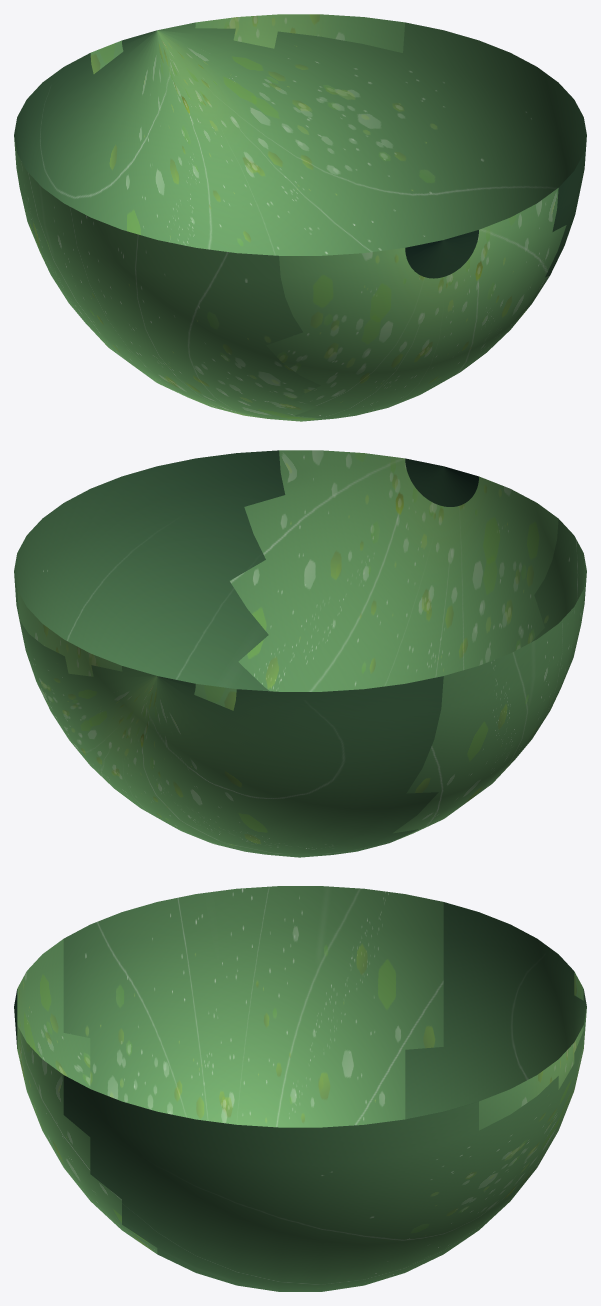
Rendered from bowl.gltf.
3 views of the same model, one above another, from view 1: azimuth 30°, elevation 25°; view 2: azimuth 150°, elevation 25°; view 3: azimuth 270°, elevation 25° (orthographic).
Parts seen in each view (by area): view 1: Plane; view 2: Plane; view 3: Plane.
Boxes of the visible parts, left/top/right/bottom form: Plane: left=14, top=14, right=586, bottom=421; Plane: left=14, top=450, right=586, bottom=857; Plane: left=14, top=886, right=586, bottom=1291.
Size of the model in its own units: 1.27 by 0.6331 by 1.27.
1 material, 1 textured.
